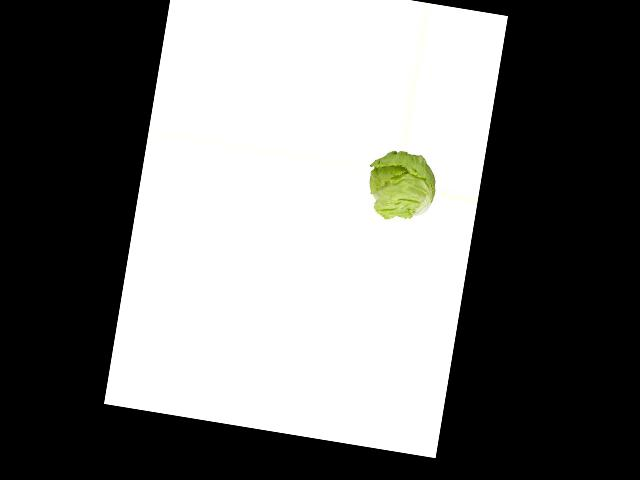lettuce: (363, 146, 442, 223)
